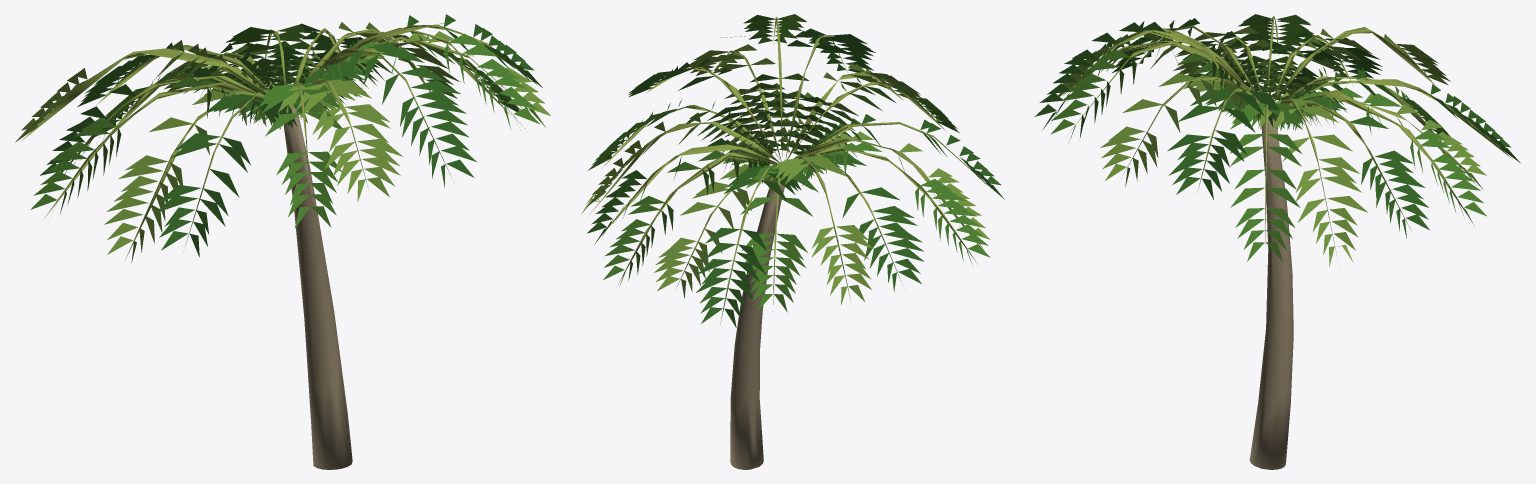
The model's file is CoconutPalm_B_LOD1.glb.
3 renders of one model, left to right at view 1: azimuth 30°, elevation 25°; view 2: azimuth 150°, elevation 25°; view 3: azimuth 270°, elevation 25°, orthographic. The views are drawn at different scales.
Visible parts, largest first — view 1: CoconutPalm_B_LOD1_Palm_LeafColor, CoconutPalm_B_LOD1_Palm_Bark_WarmGray, CoconutPalm_B_LOD1_Coconut_Frond_Stem; view 2: CoconutPalm_B_LOD1_Palm_LeafColor, CoconutPalm_B_LOD1_Coconut_Frond_Stem, CoconutPalm_B_LOD1_Palm_Bark_WarmGray; view 3: CoconutPalm_B_LOD1_Palm_LeafColor, CoconutPalm_B_LOD1_Palm_Bark_WarmGray, CoconutPalm_B_LOD1_Coconut_Frond_Stem.
Part boxes in pixels (bbox=[...]): CoconutPalm_B_LOD1_Palm_LeafColor: bbox=[15, 14, 550, 262]; CoconutPalm_B_LOD1_Palm_Bark_WarmGray: bbox=[283, 107, 352, 469]; CoconutPalm_B_LOD1_Coconut_Frond_Stem: bbox=[21, 25, 527, 259]; CoconutPalm_B_LOD1_Palm_LeafColor: bbox=[581, 14, 1004, 327]; CoconutPalm_B_LOD1_Coconut_Frond_Stem: bbox=[589, 17, 994, 323]; CoconutPalm_B_LOD1_Palm_Bark_WarmGray: bbox=[730, 181, 784, 469]; CoconutPalm_B_LOD1_Palm_LeafColor: bbox=[1034, 14, 1520, 266]; CoconutPalm_B_LOD1_Palm_Bark_WarmGray: bbox=[1249, 118, 1293, 469]; CoconutPalm_B_LOD1_Coconut_Frond_Stem: bbox=[1054, 16, 1511, 265].
Bounding box in the file's own units: 8.67 × 8.32 × 8.55.
